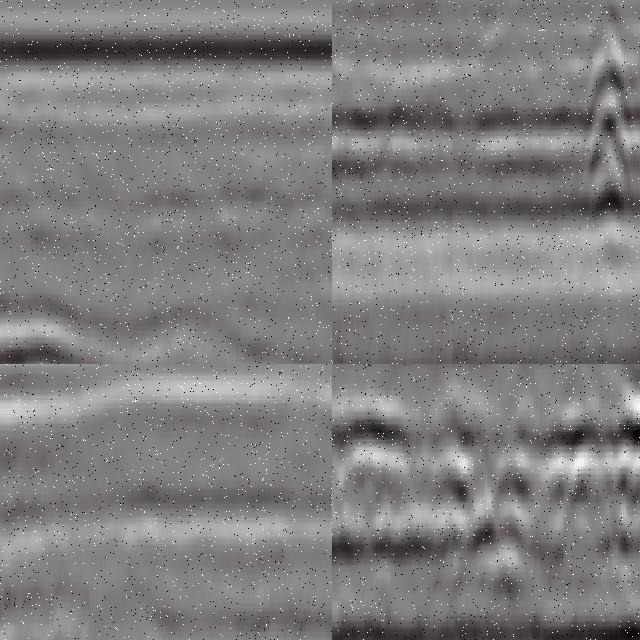crack: (581, 1, 630, 257)
loose: (333, 401, 640, 540), (1, 277, 274, 365)
